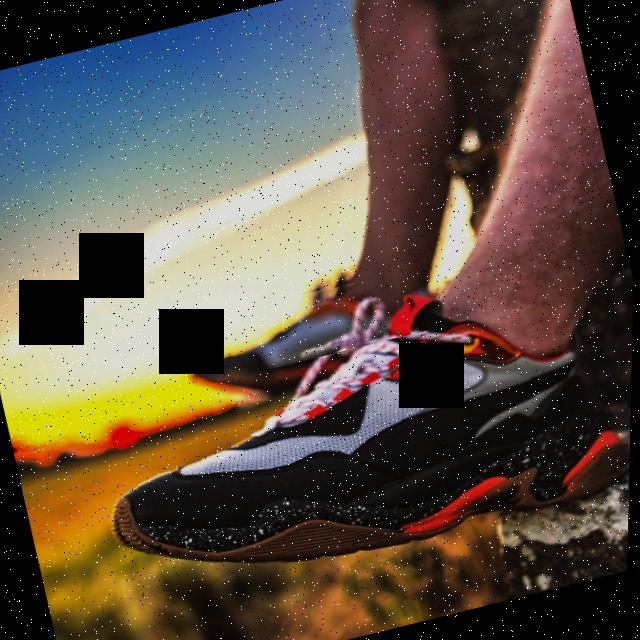shoe: (86, 286, 635, 601), (180, 266, 420, 410)
